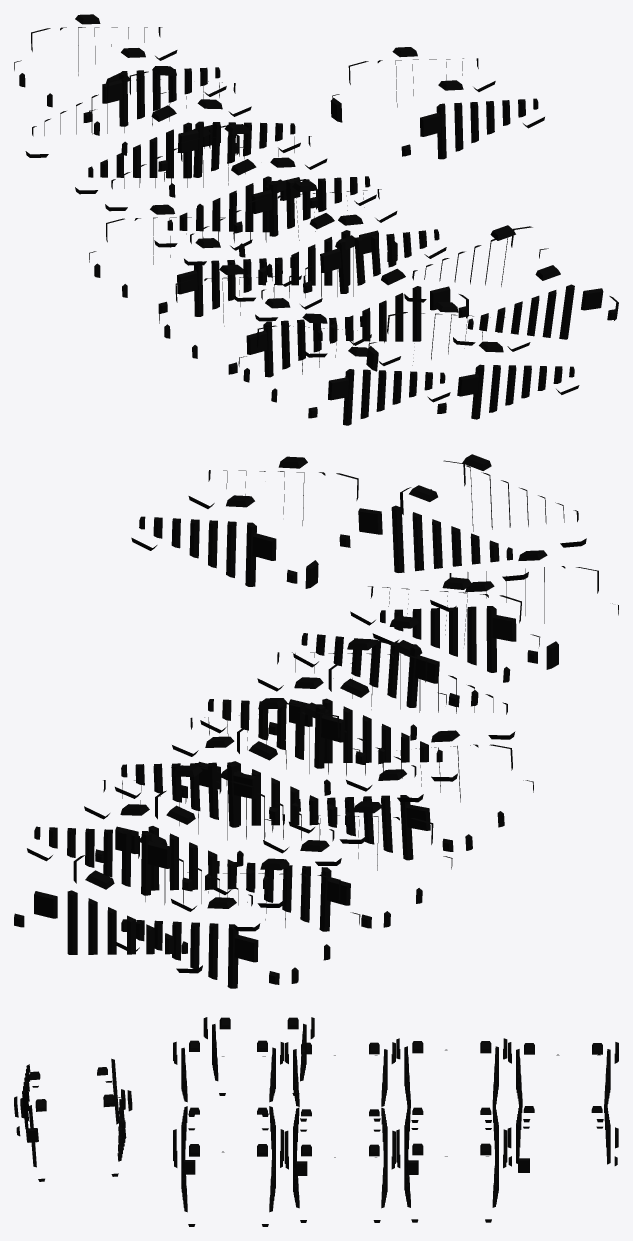
The model's file is prop_static_tan_container_01_07.glb.
The picture shows the model from 3 angles, top to bottom: view 1: azimuth 30°, elevation 25°; view 2: azimuth 150°, elevation 25°; view 3: azimuth 270°, elevation 25°; orthographic projection. The views are drawn at different scales.
Visible parts, largest first — view 1: tan_container_01_07_LOD0; view 2: tan_container_01_07_LOD0; view 3: tan_container_01_07_LOD0.
Boxes of the visible parts, x1,y1,x2,y2 form: tan_container_01_07_LOD0: (14,14,618,425); tan_container_01_07_LOD0: (14,454,618,988); tan_container_01_07_LOD0: (14,1017,618,1226).
Size of what is drawn, in the model's own units: 5.04 by 5.22 by 12.9.
1 material, 1 textured.
